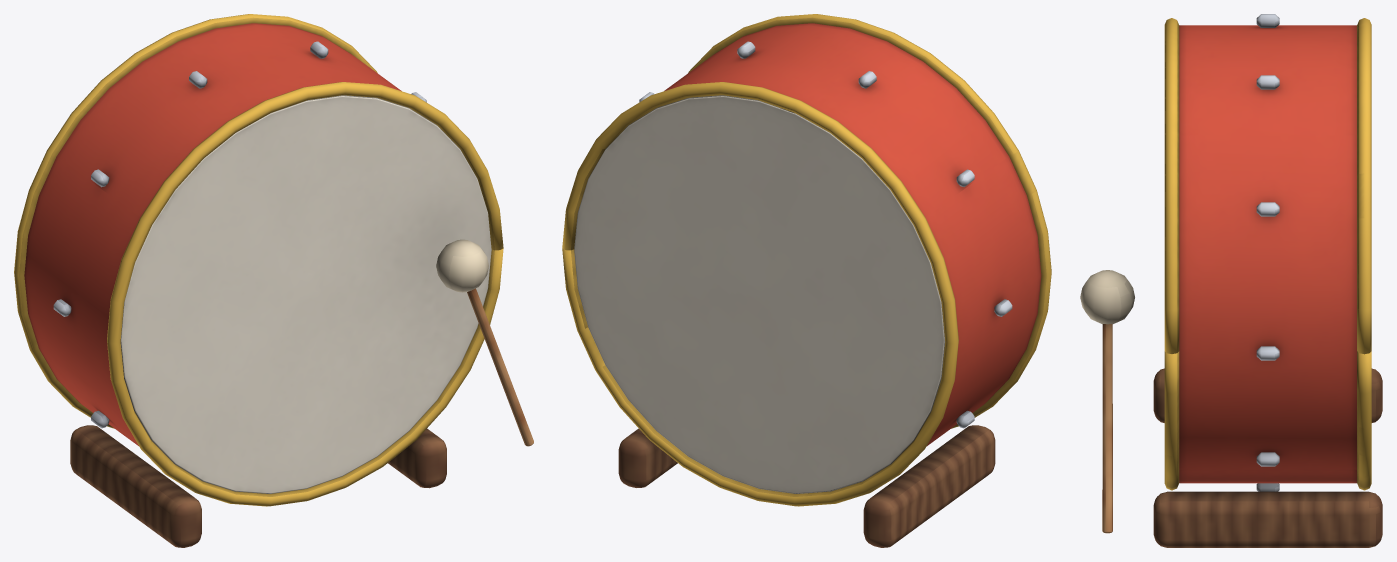
Rendered from BassDrum.fbx.
3 renders of one model, left to right at view 1: azimuth 30°, elevation 25°; view 2: azimuth 150°, elevation 25°; view 3: azimuth 270°, elevation 25°, orthographic. The views are drawn at different scales.
Parts seen in each view (by area): view 1: Pad_36_Mesh.001, BassDrum_Body; view 2: Pad_36_Mesh.001, BassDrum_Body; view 3: Pad_36_Mesh.001, BassDrum_Body.
Boxes of the visible parts, x1,y1,x2,y2 form: Pad_36_Mesh.001: (14,14,503,506); BassDrum_Body: (70,239,533,547); Pad_36_Mesh.001: (562,14,1051,506); BassDrum_Body: (618,425,995,547); Pad_36_Mesh.001: (1164,14,1371,491); BassDrum_Body: (1080,270,1382,547).
Bounding box in the file's own units: 1.05 × 1.07 × 0.66.
